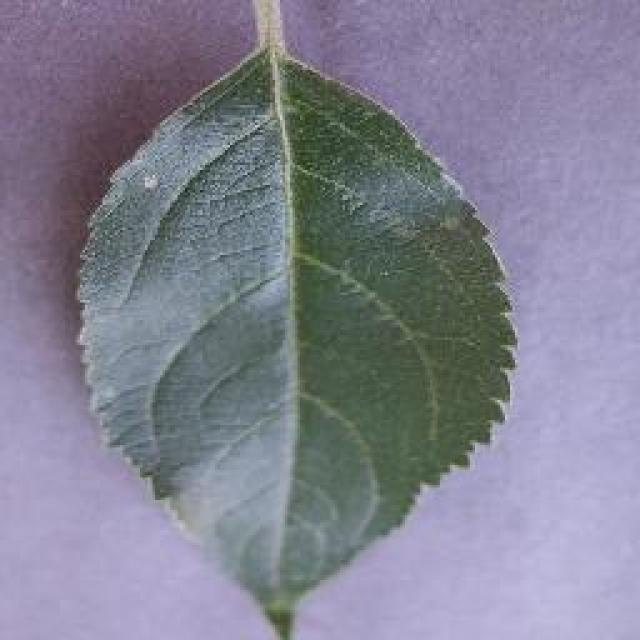apple healthy: (70, 2, 520, 632)
